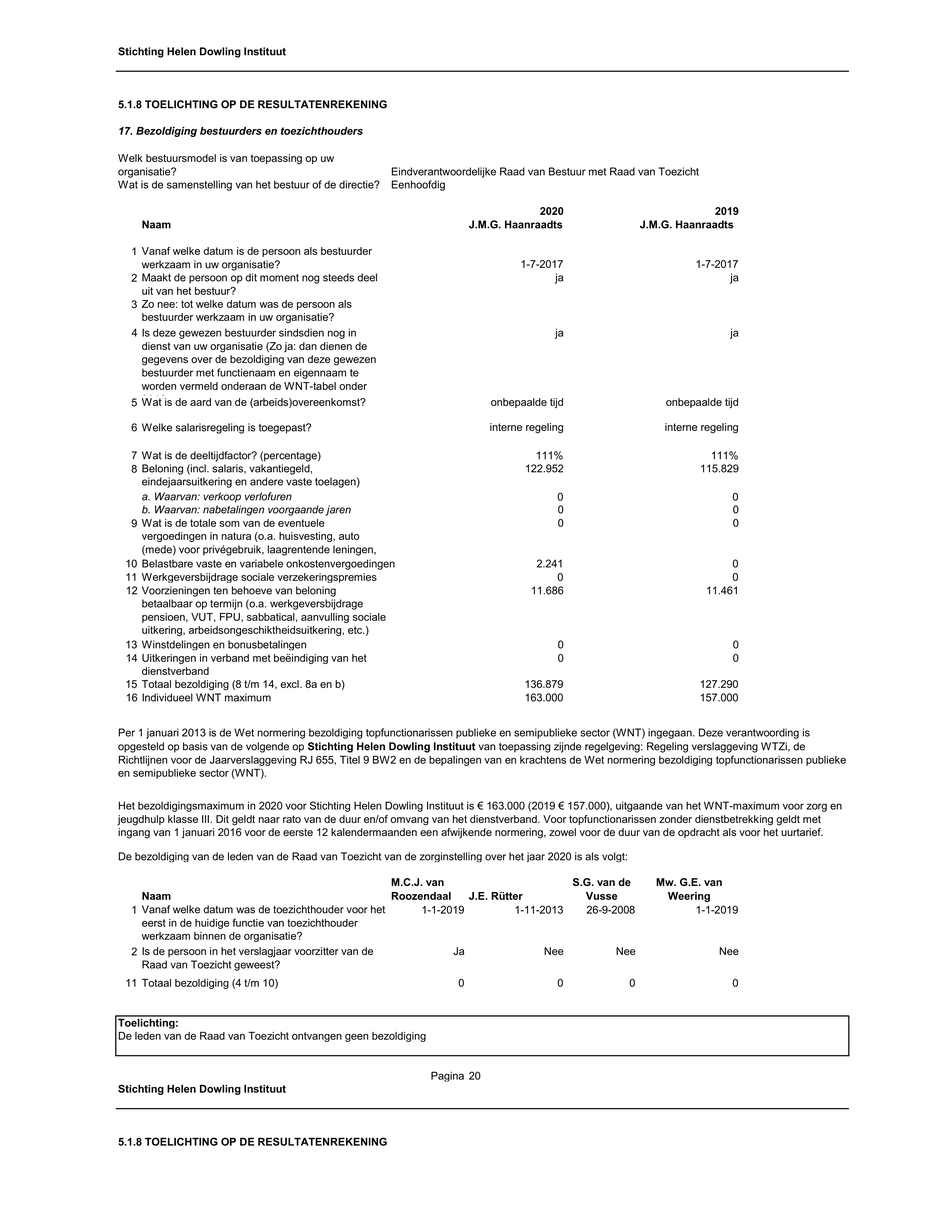coulmn: (121, 196, 398, 705), (461, 200, 580, 701), (635, 198, 750, 709), (129, 873, 385, 998), (652, 871, 755, 1000), (468, 875, 566, 999), (571, 876, 648, 1001), (390, 874, 466, 999)
